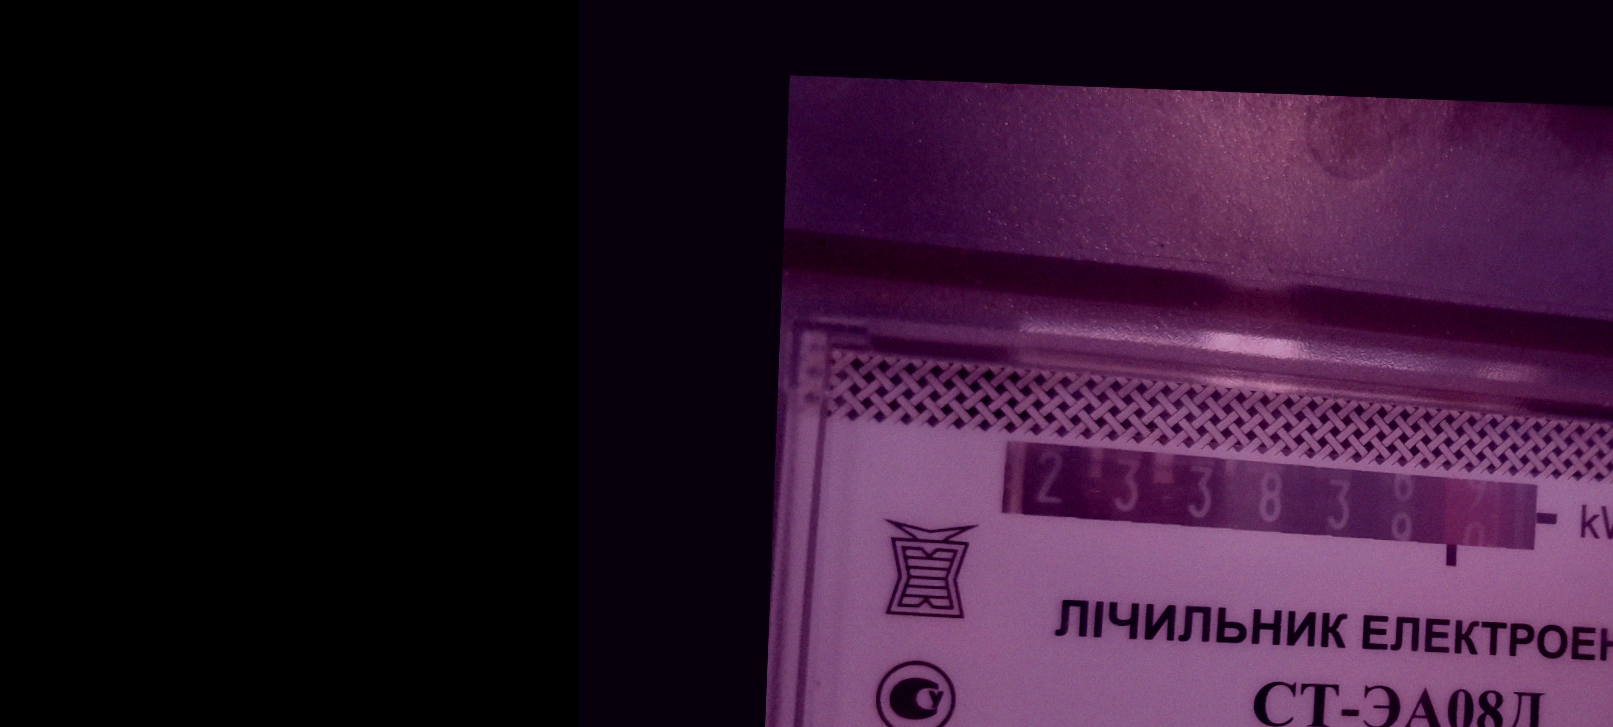0: (1461, 517, 1489, 552)
2: (1031, 445, 1071, 507)
3: (1181, 458, 1219, 523), (1325, 473, 1356, 530), (1113, 455, 1142, 513)
8: (1253, 465, 1289, 525), (1391, 469, 1419, 502)
9: (1461, 474, 1493, 513), (1388, 507, 1418, 545)
screen: (971, 417, 1569, 595)
